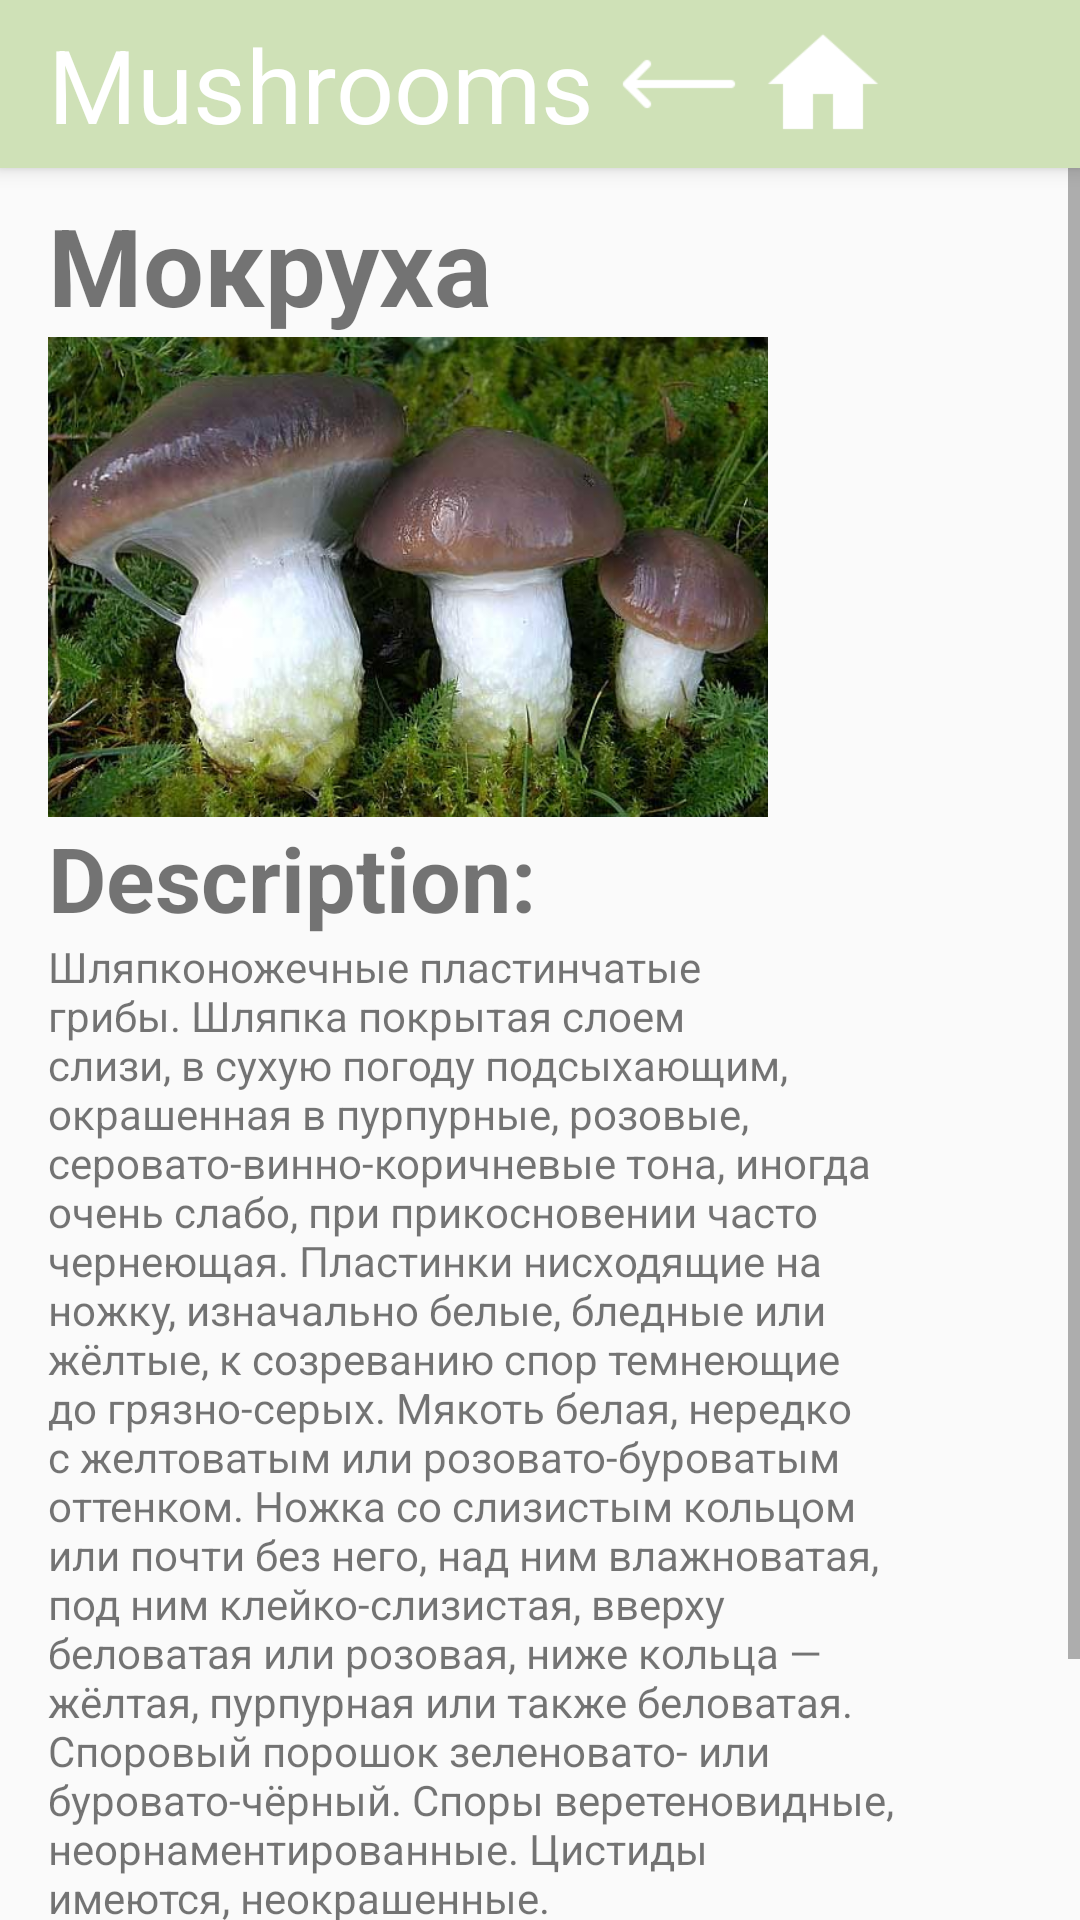

Icon bounding boxes for this 1080×1920 phone screenshot, format (x1,y1,x2,y2):
home: (768,35,878,129)
long arrow left: (623,60,735,108)
